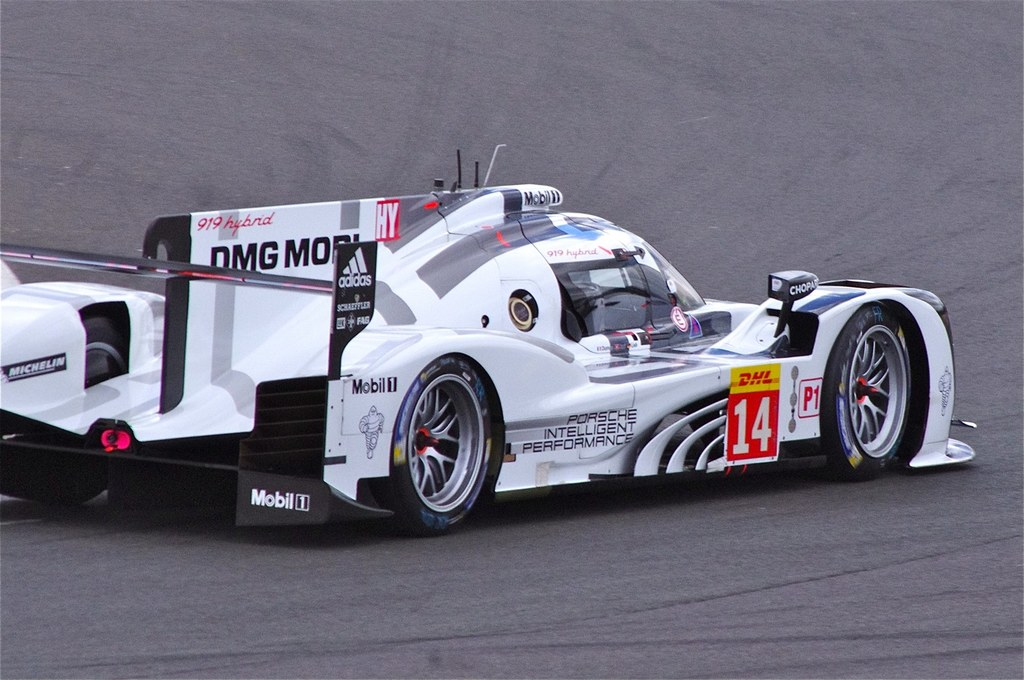Car: (0, 141, 979, 530)
